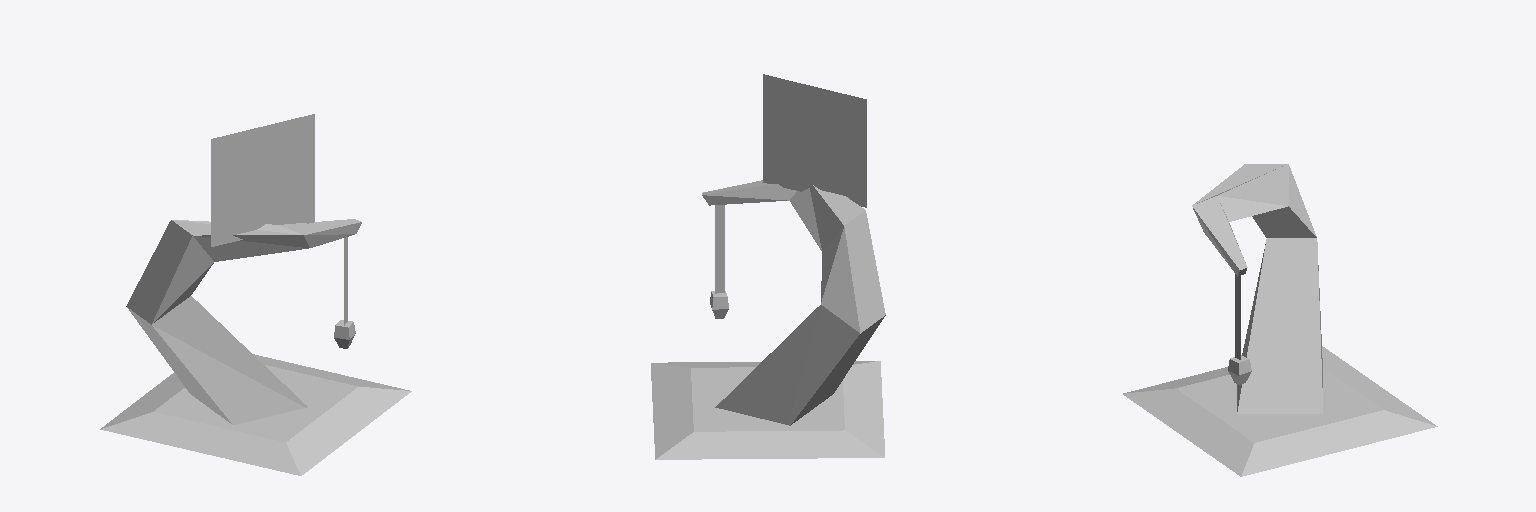
The model's file is pen_002.obj.
The picture shows the model from 3 angles: view 1: azimuth 30°, elevation 25°; view 2: azimuth 150°, elevation 25°; view 3: azimuth 270°, elevation 25°; orthographic projection.
Parts seen in each view (by area): view 1: Пень.002; view 2: Пень.002; view 3: Пень.002.
Part boxes in pixels (x1,y1,x2,y2): Пень.002: (100, 114, 411, 475); Пень.002: (651, 74, 885, 459); Пень.002: (1123, 164, 1437, 476).
Bounding box in the file's own units: 1.93 × 2.08 × 1.93.